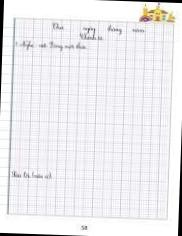text: (14, 38, 88, 54), (10, 168, 56, 180), (78, 32, 104, 42), (105, 24, 123, 36), (82, 25, 96, 34), (50, 22, 64, 30), (132, 28, 146, 34), (80, 224, 88, 230)
